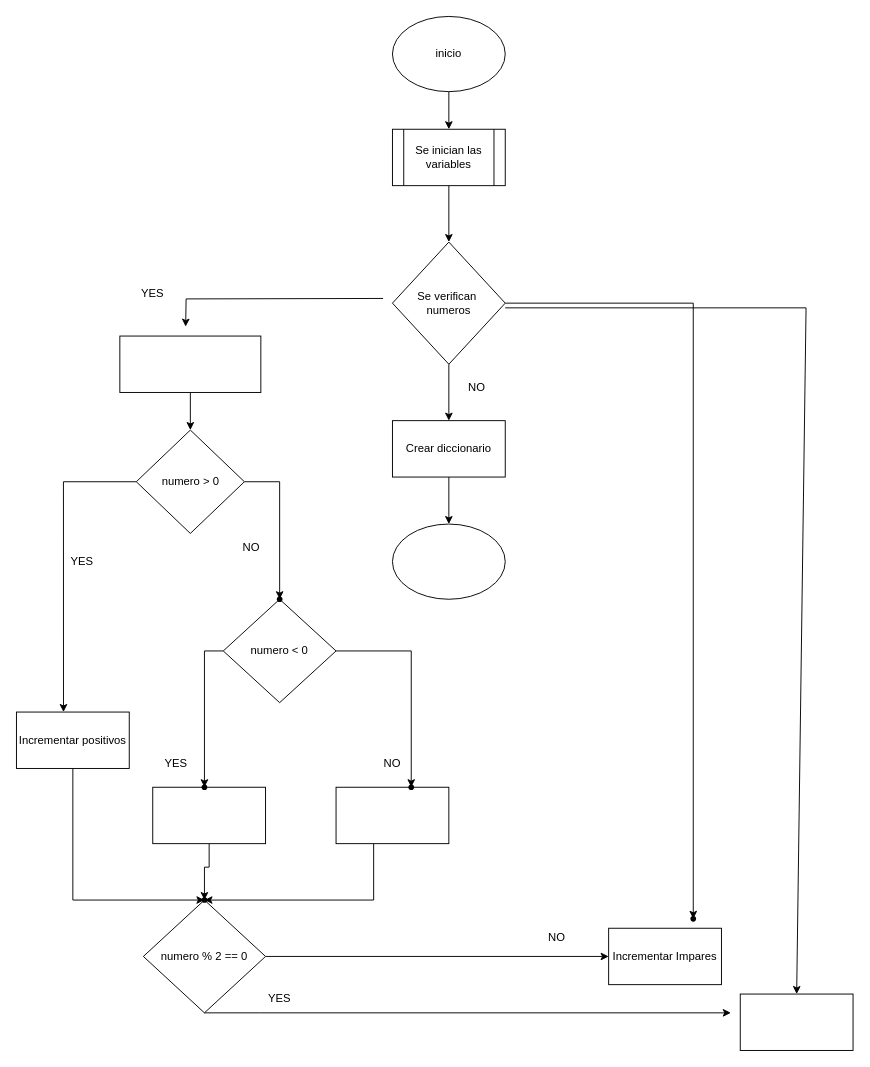
This 870x1067 diagram has some shape labels left out. The shapes that lost their labels are listed below. From the top down, each one's box as (x1, y1, x2, y2) in pixels, then its label:
(119, 335, 261, 392): pasa a siguiente numero
(392, 523, 505, 599): Fin
(152, 786, 266, 844): Incrementar negativos
(335, 786, 449, 844): Sin acción
(739, 993, 853, 1050): Incrementar pares
